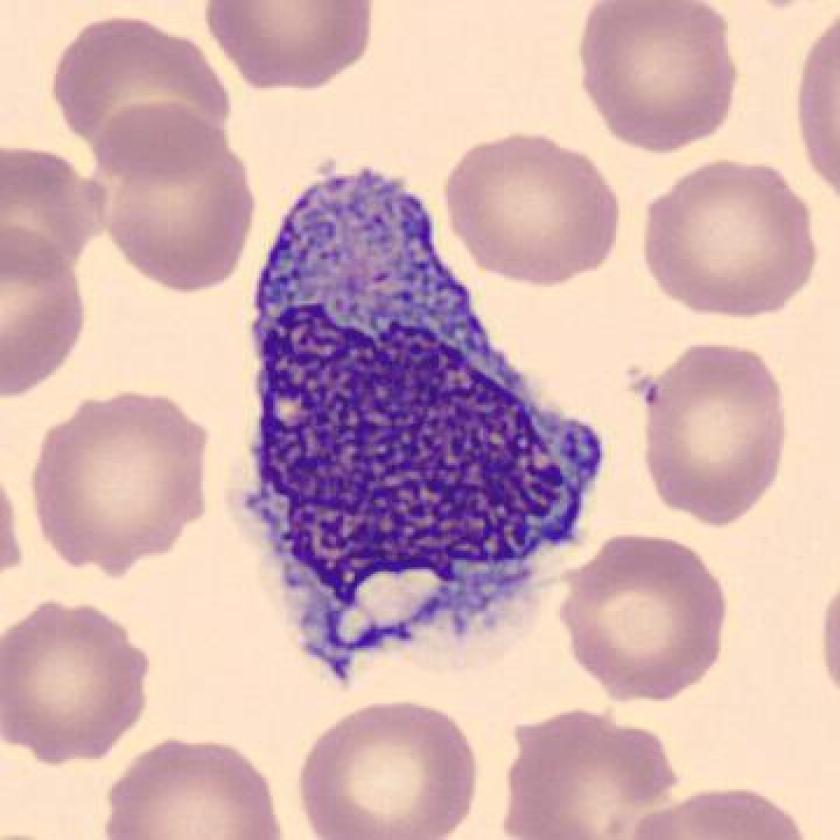monocyte: (216, 152, 617, 705)
